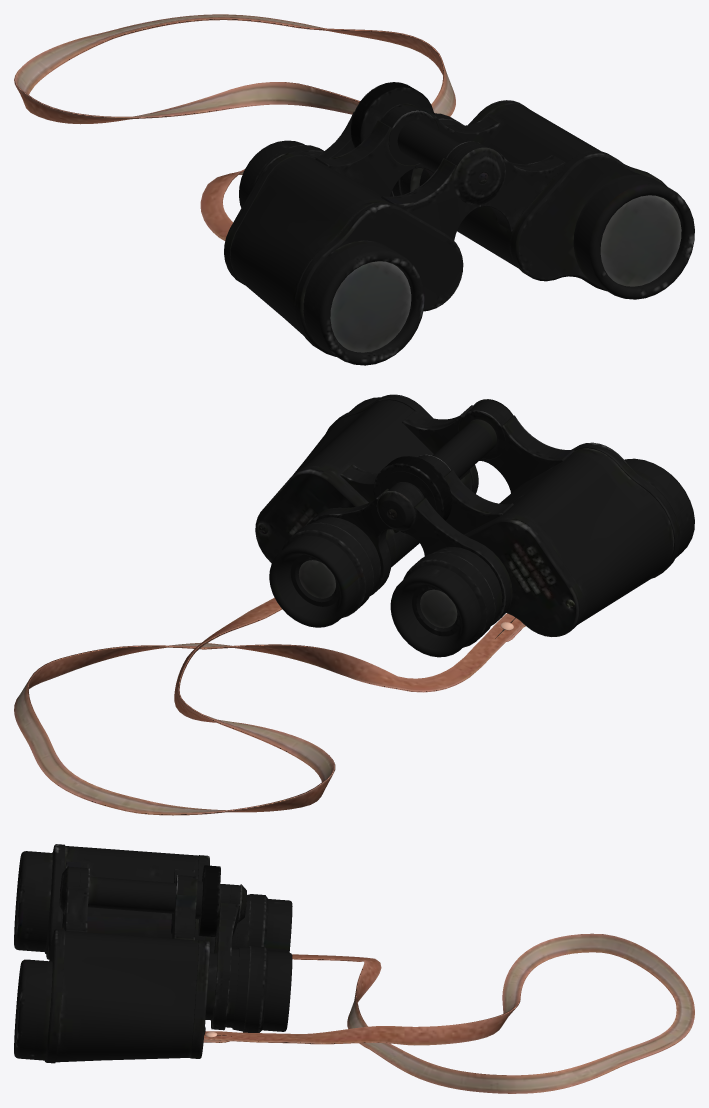
The model's file is design-binoculars.glb.
3 renders of one model, top to bottom at view 1: azimuth 30°, elevation 25°; view 2: azimuth 150°, elevation 25°; view 3: azimuth 270°, elevation 25°, orthographic. The views are drawn at different scales.
Parts seen in each view (by area): view 1: binoculars_left, binoculars_strap; view 2: binoculars_left, binoculars_strap; view 3: binoculars_left, binoculars_strap.
Part boxes in pixels (x1,y1,x2,y2): binoculars_left: [224, 82, 694, 365]; binoculars_strap: [14, 14, 455, 240]; binoculars_left: [255, 394, 694, 657]; binoculars_strap: [14, 597, 525, 815]; binoculars_left: [14, 844, 292, 1063]; binoculars_strap: [203, 933, 694, 1093].
Size of the model in its own units: 0.1669 by 0.0663 by 0.2879.
Materials: 2 (2 with a texture image).
